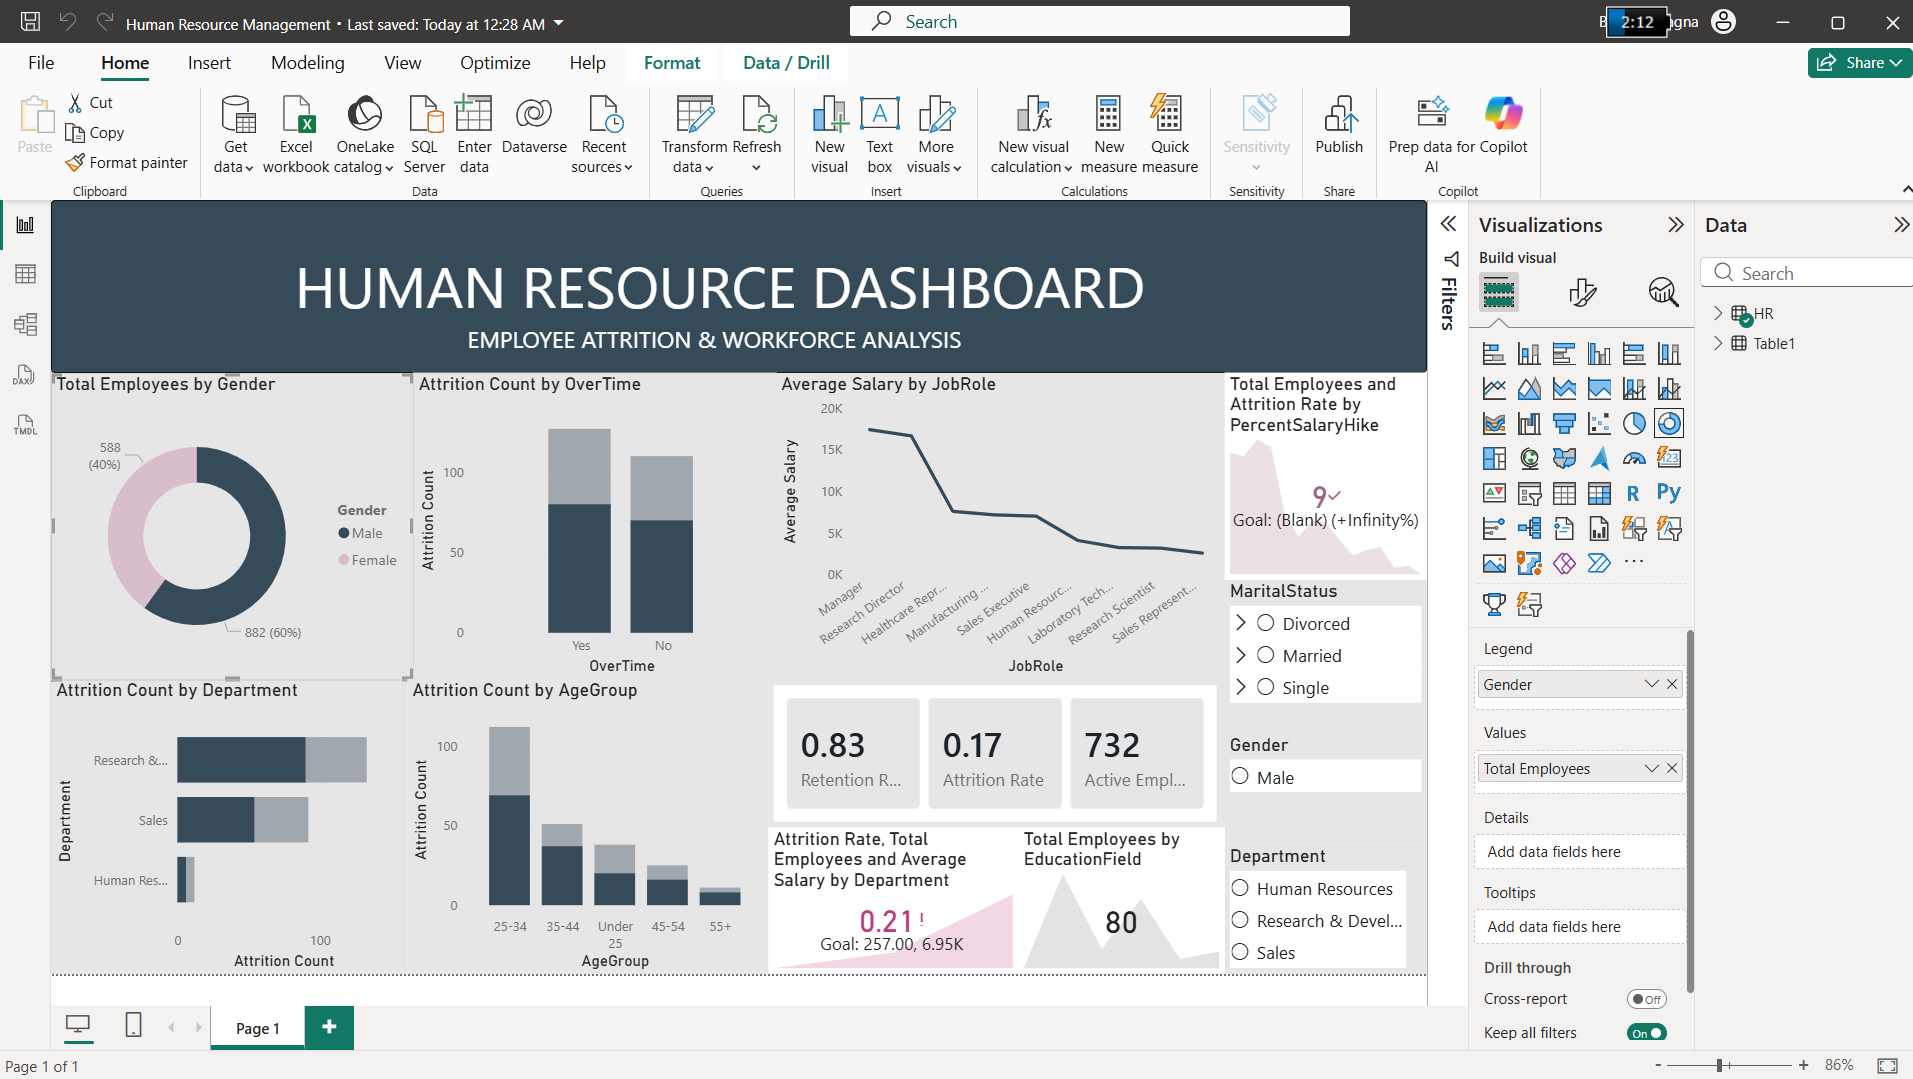

The page's visual inventory and layout, read from the dashboard file:
{"tool":"powerbi","page":{"name":"Page 1","canvas":[1280,720],"ordinal":0},"visuals":[{"type":"clusteredBarChart","fields":{"Category":["HR.Department"],"Y":["HR.Attrition Count"]},"box":[0,445.4,331.4,275.6],"z":0},{"type":"donutChart","fields":{"Category":["HR.Gender"],"Y":["HR.Total Employees"]},"box":[0,160.5,337.6,285.4],"z":1000},{"type":"clusteredColumnChart","fields":{"Category":["HR.AgeGroup"],"Y":["HR.Attrition Count"]},"box":[331.4,445.4,336,275.6],"z":2000},{"type":"lineChart","fields":{"Category":["HR.JobRole"],"Y":["HR.Average Salary"]},"box":[674.4,160.5,417.4,286],"z":3000},{"type":"textbox","box":[0,0,1280.2,160.5],"z":4000},{"type":"clusteredColumnChart","fields":{"Y":["HR.Attrition Count"],"Category":["HR.OverTime"]},"box":[337.2,160.5,337.2,286],"z":5000},{"type":"cardVisual","fields":{"Data":["HR.Retention Rate","HR.Attrition Rate","HR.Active Employees"]},"box":[667.4,446.5,424.4,137.2],"z":6000},{"type":"listSlicer","fields":{"Values":["HR.Department"]},"box":[1092.3,599.7,188,120.8],"z":7000},{"type":"listSlicer","fields":{"Values":["HR.Gender"]},"box":[1091.9,496.5,188.4,103.5],"z":8000},{"type":"listSlicer","fields":{"Values":["HR.MaritalStatus","HR.JobRole"]},"box":[1091.9,353.5,188.4,143],"z":9000},{"type":"kpi","fields":{"Indicator":["HR.Total Employees"],"Goal":["HR.Attrition Rate"],"TrendLine":["HR.PercentSalaryHike"]},"box":[1091.9,160.5,188.4,193],"z":10000},{"type":"kpi","fields":{"Indicator":["HR.Attrition Rate"],"Goal":["HR.Total Employees","HR.Average Salary"],"TrendLine":["HR.Department"]},"box":[667.4,583.7,232.6,136],"z":11000},{"type":"kpi","fields":{"Indicator":["HR.Total Employees"],"TrendLine":["HR.EducationField"]},"box":[900,583.7,191.9,136],"z":12000}]}

Visuals, with their boxes on the page's 1280x720 design canvas (x1, y1, x2, y2). These are canvas units, not pixel positions in the 1913x1079 screenshot, which may show the page scaled, cropped or inside an application window:
clusteredBarChart - HR.Department x HR.Attrition Count: {"left": 0, "top": 445, "right": 331, "bottom": 721}
donutChart - HR.Gender x HR.Total Employees: {"left": 0, "top": 160, "right": 338, "bottom": 446}
clusteredColumnChart - HR.AgeGroup x HR.Attrition Count: {"left": 331, "top": 445, "right": 667, "bottom": 721}
lineChart - HR.JobRole x HR.Average Salary: {"left": 674, "top": 160, "right": 1092, "bottom": 446}
textbox: {"left": 0, "top": 0, "right": 1280, "bottom": 160}
clusteredColumnChart - HR.Attrition Count x HR.OverTime: {"left": 337, "top": 160, "right": 674, "bottom": 446}
cardVisual - HR.Retention Rate x HR.Attrition Rate: {"left": 667, "top": 446, "right": 1092, "bottom": 584}
listSlicer - HR.Department: {"left": 1092, "top": 600, "right": 1280, "bottom": 720}
listSlicer - HR.Gender: {"left": 1092, "top": 496, "right": 1280, "bottom": 600}
listSlicer - HR.MaritalStatus x HR.JobRole: {"left": 1092, "top": 354, "right": 1280, "bottom": 496}
kpi - HR.Total Employees x HR.Attrition Rate: {"left": 1092, "top": 160, "right": 1280, "bottom": 354}
kpi - HR.Attrition Rate x HR.Total Employees: {"left": 667, "top": 584, "right": 900, "bottom": 720}
kpi - HR.Total Employees x HR.EducationField: {"left": 900, "top": 584, "right": 1092, "bottom": 720}
